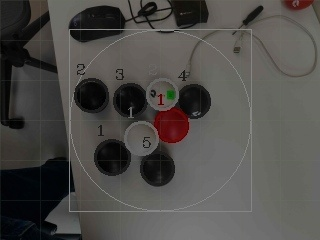Pelota blanca: (251, 15, 319, 78), (123, 119, 159, 156), (145, 77, 180, 111), (311, 0, 320, 24)
Pelota negra: (0, 161, 71, 240), (67, 5, 126, 42), (93, 137, 132, 177), (73, 77, 111, 114), (0, 0, 35, 40), (111, 81, 146, 118), (139, 151, 176, 186), (177, 83, 210, 118)
Pelota roja: (153, 107, 190, 144), (279, 0, 315, 12)
